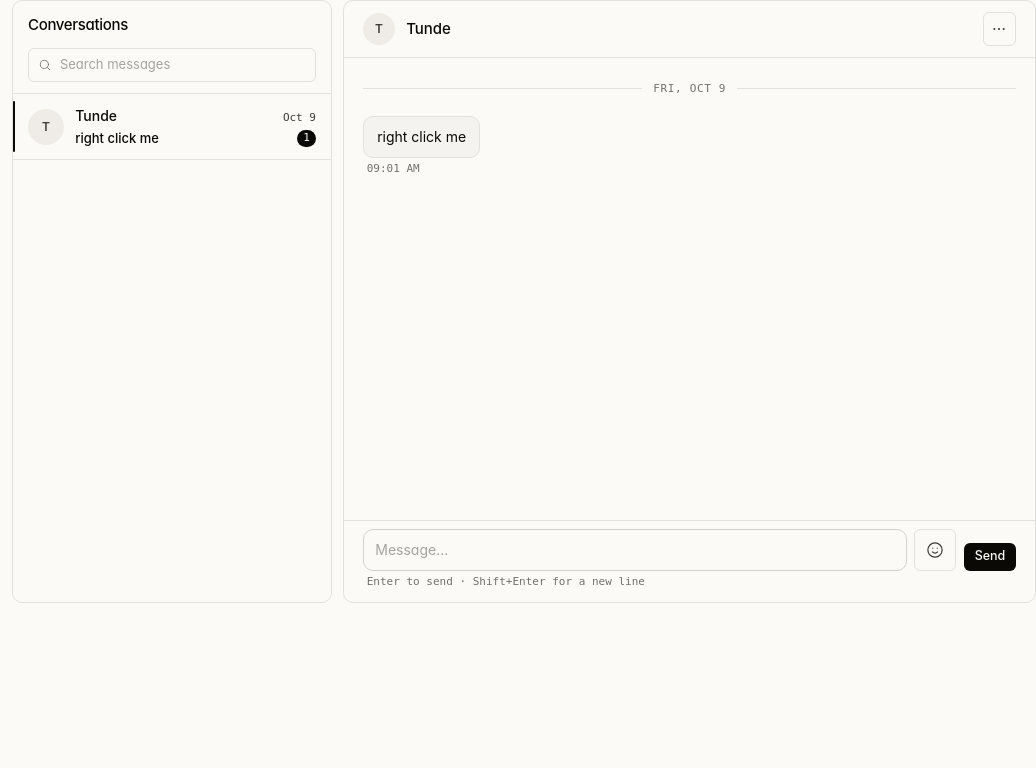
Test: message action menu (web W19) › opens on right click (context menu)
The image size is (1036, 768).
Right-click the text "right click me" at coordinates (422, 137), box x1=363 y1=116 x2=480 y2=158
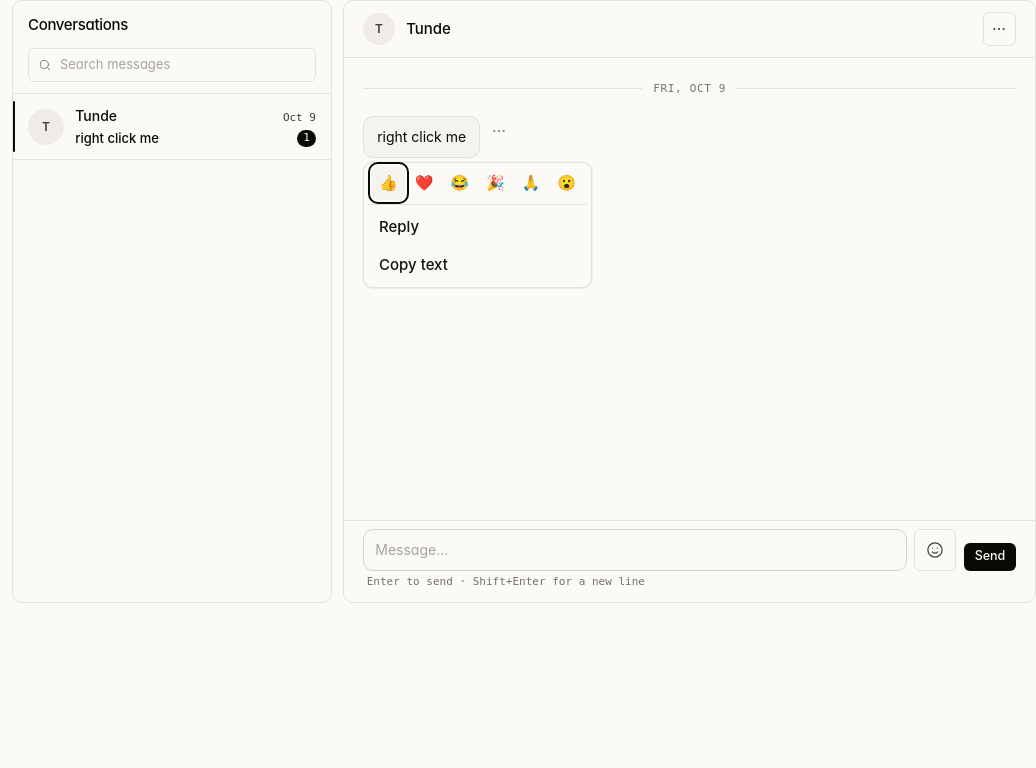
Expected: the menu named "Message actions" is shown, x1=363 y1=162 x2=592 y2=288
